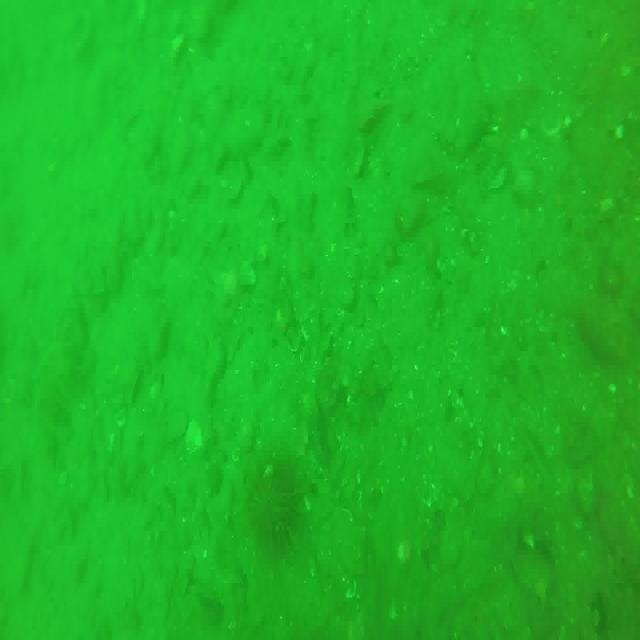echinus: (247, 448, 305, 562)
scallop: (187, 420, 204, 452), (397, 541, 412, 560)
